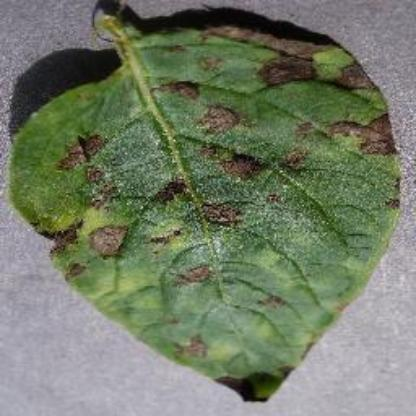Early-Blight: (11, 8, 400, 402)
